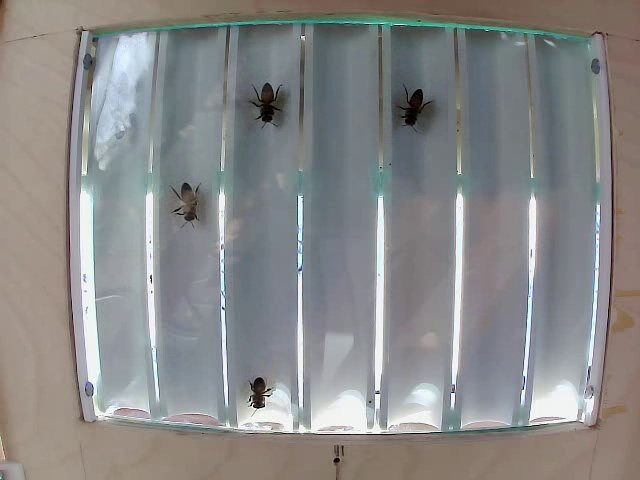bee: (167, 177, 210, 224), (255, 84, 286, 124), (397, 90, 415, 134)
